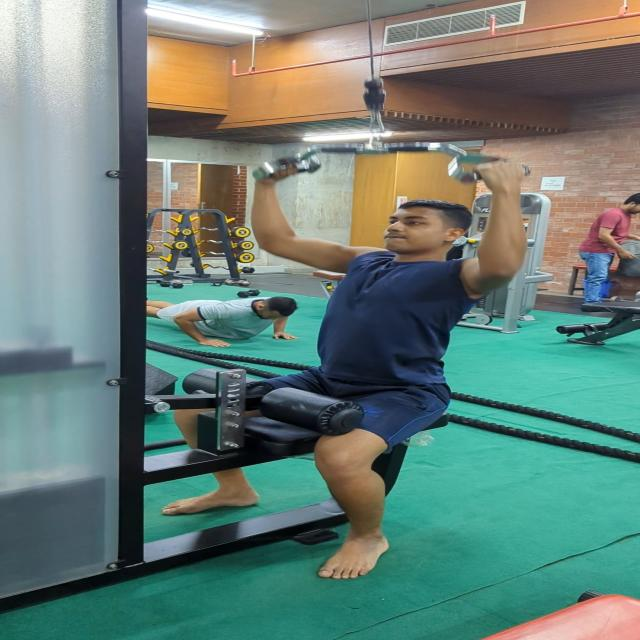Normal_LatPulldown: (160, 143, 548, 592)
